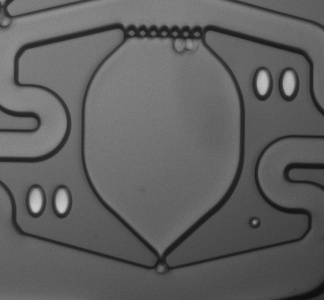AptNum: (244, 60, 304, 108)
Marker: (245, 212, 267, 233)
StNum: (17, 177, 81, 228)
Trap: (135, 257, 191, 300)
